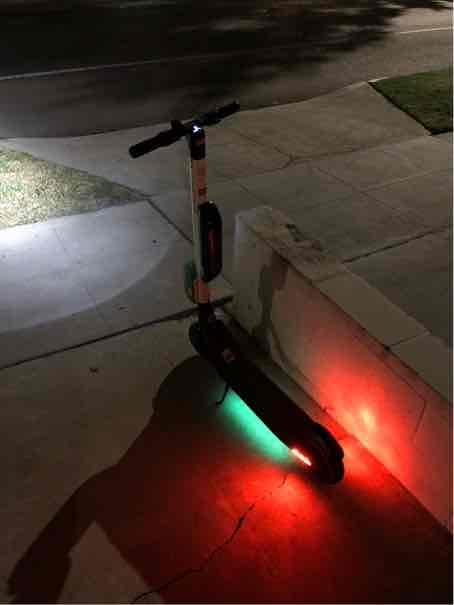scooter: (130, 96, 346, 500)
